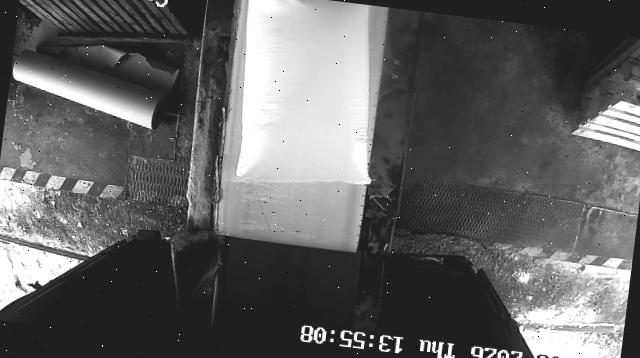bag: (225, 0, 392, 193)
